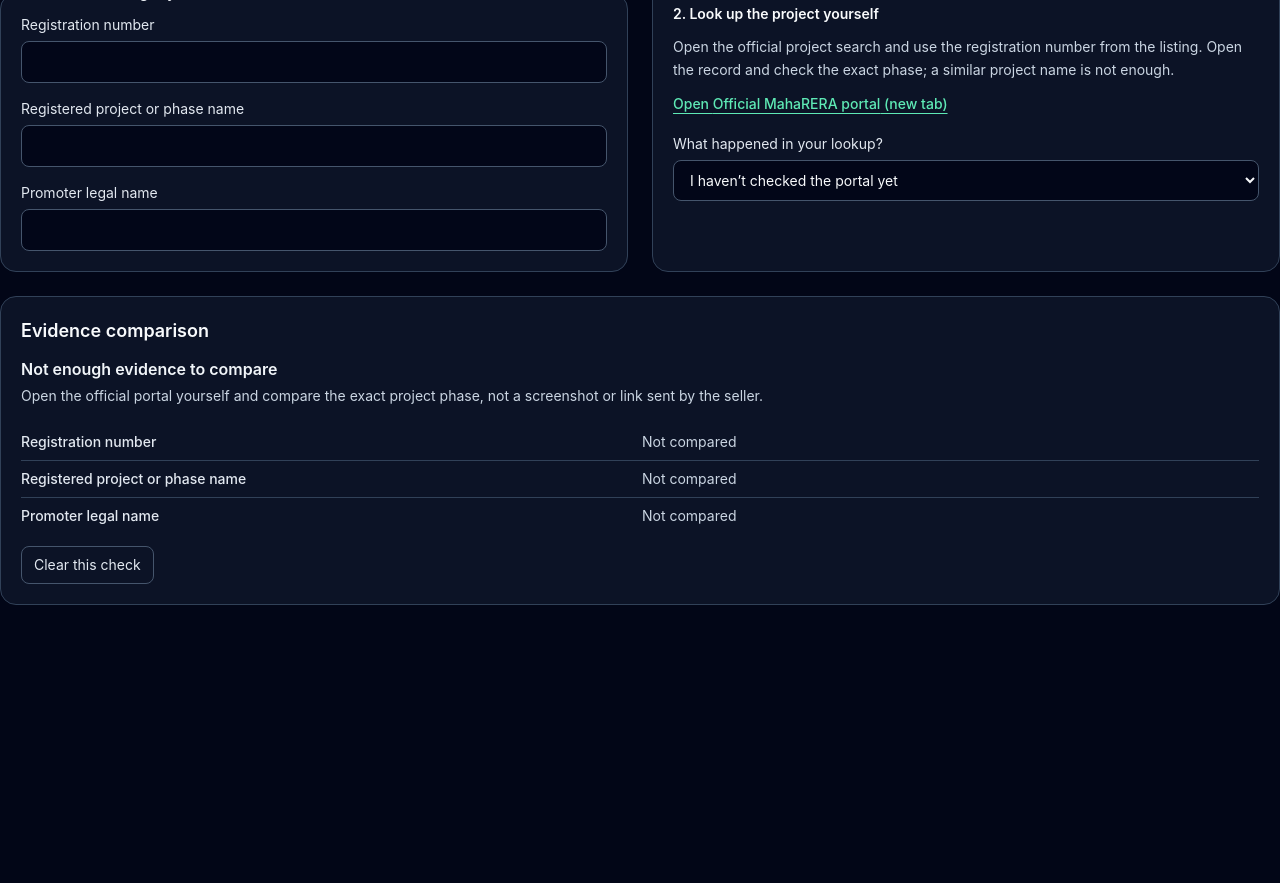
it: remote buyer workflow › can clear both sets of entries and reset the lookup
In the field labelled "Registration number": x=314, y=62 [21,41,607,83], type "DEMO-001"
In the field labelled "Registered project or phase name": x=314, y=146 [21,125,607,167], type "Synthetic phase 1"
In the field labelled "Promoter legal name": x=314, y=230 [21,209,607,251], type "Example Promoter"
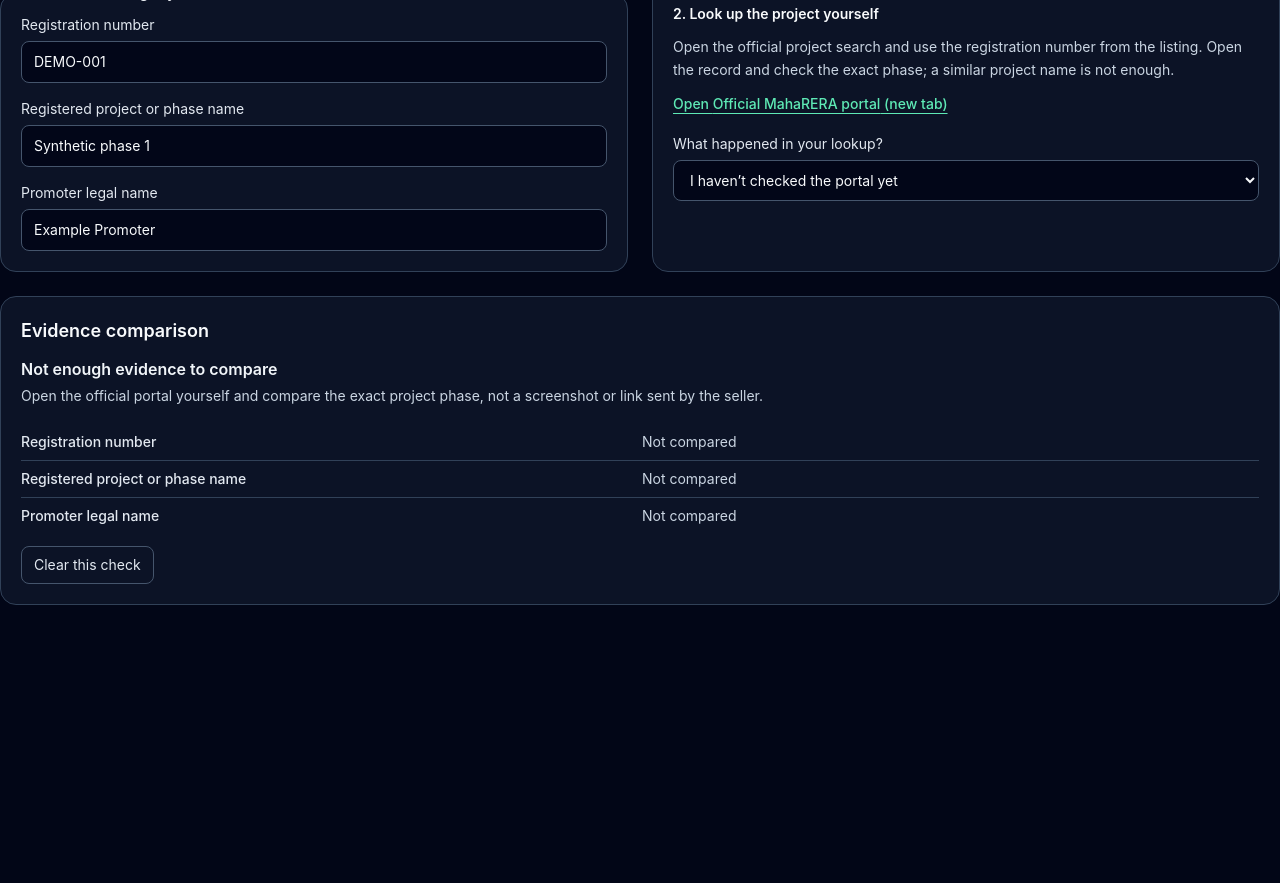
Select "I opened a record on the official portal" in the dropdown labelled "What happened in your lookup?": x=966, y=180 [673,160,1259,200]
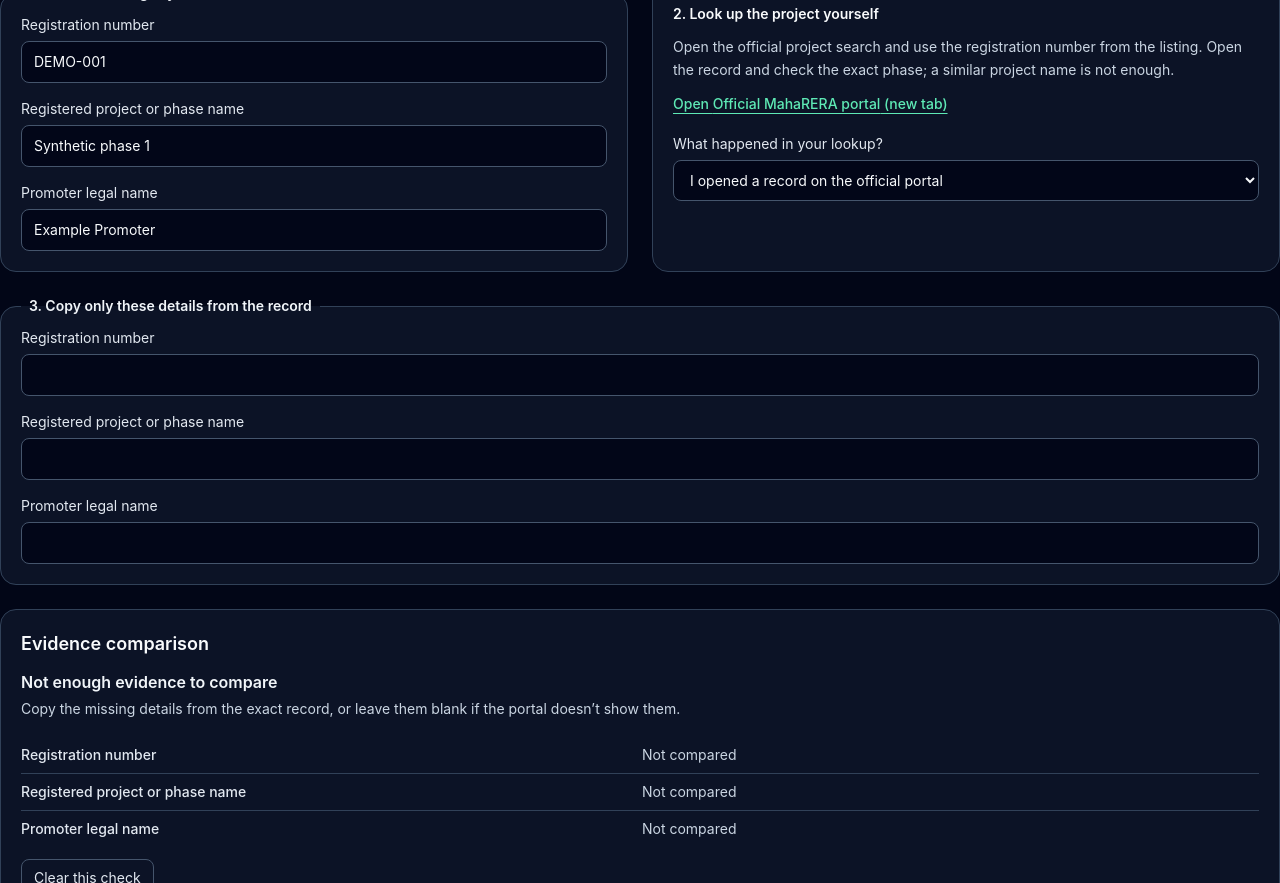
In the 2nd field labelled "Registration number": x=640, y=375 [21,354,1259,396], type "DEMO-001"
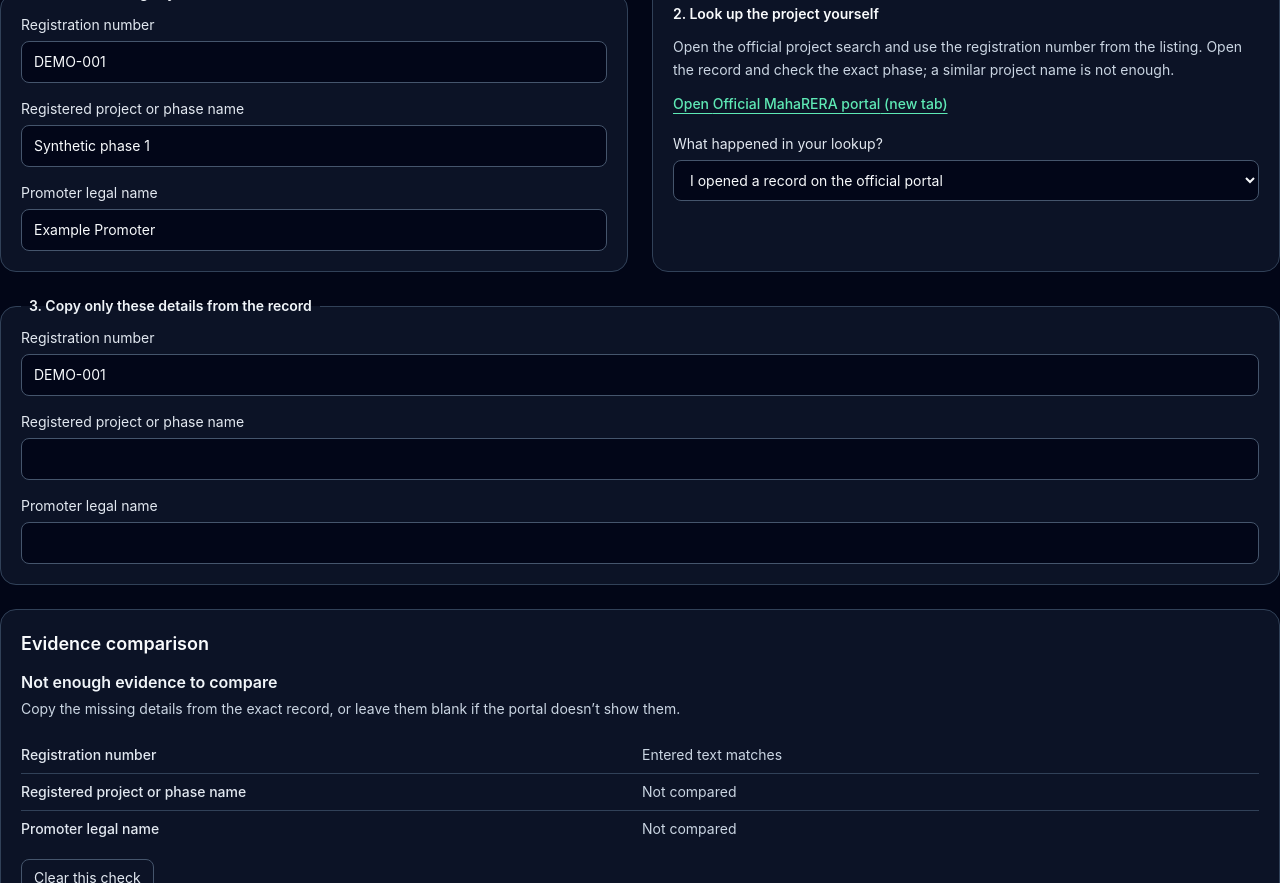
In the 2nd field labelled "Registered project or phase name": x=640, y=459 [21,438,1259,480], type "Synthetic phase 1"
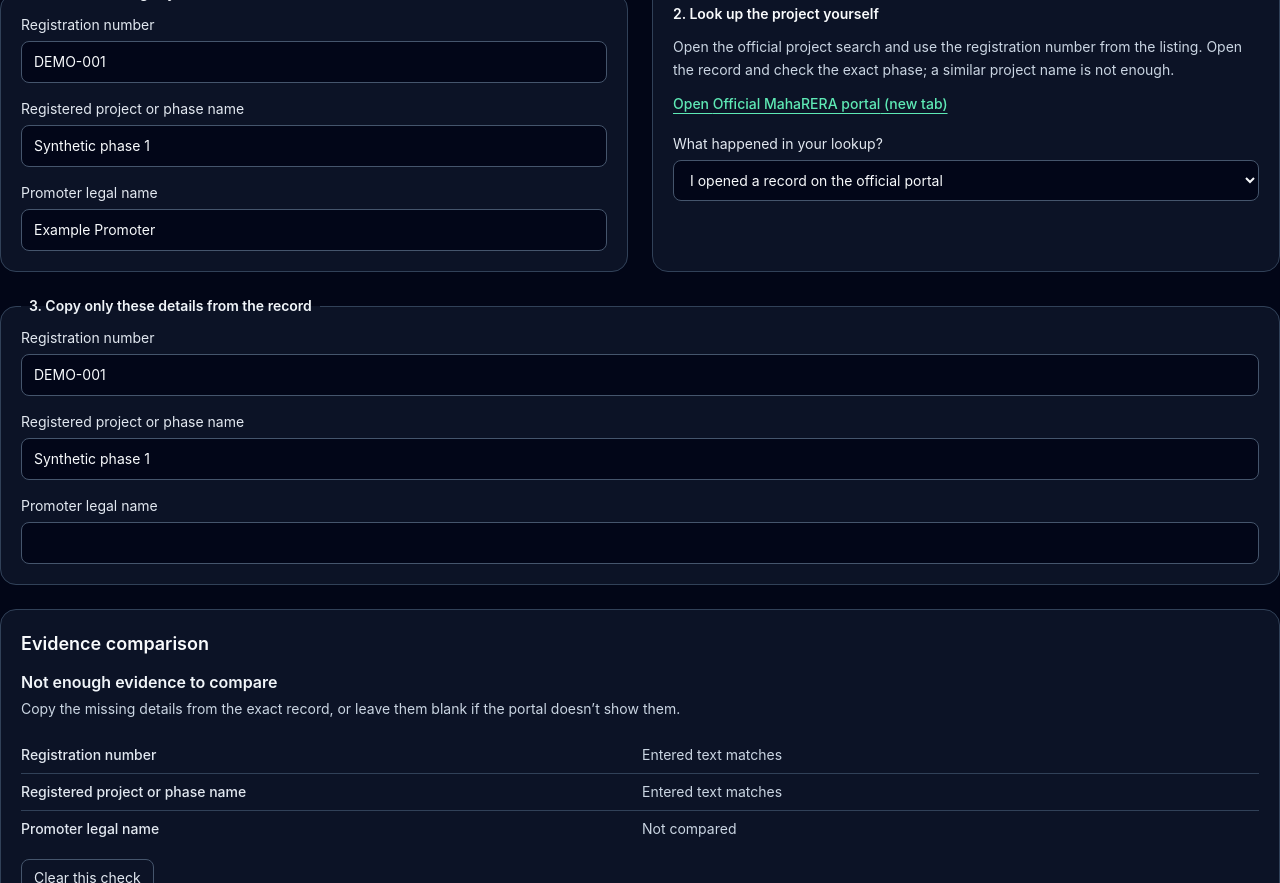
In the 2nd field labelled "Promoter legal name": x=640, y=543 [21,522,1259,564], type "Example Promoter"
(page scrolled)
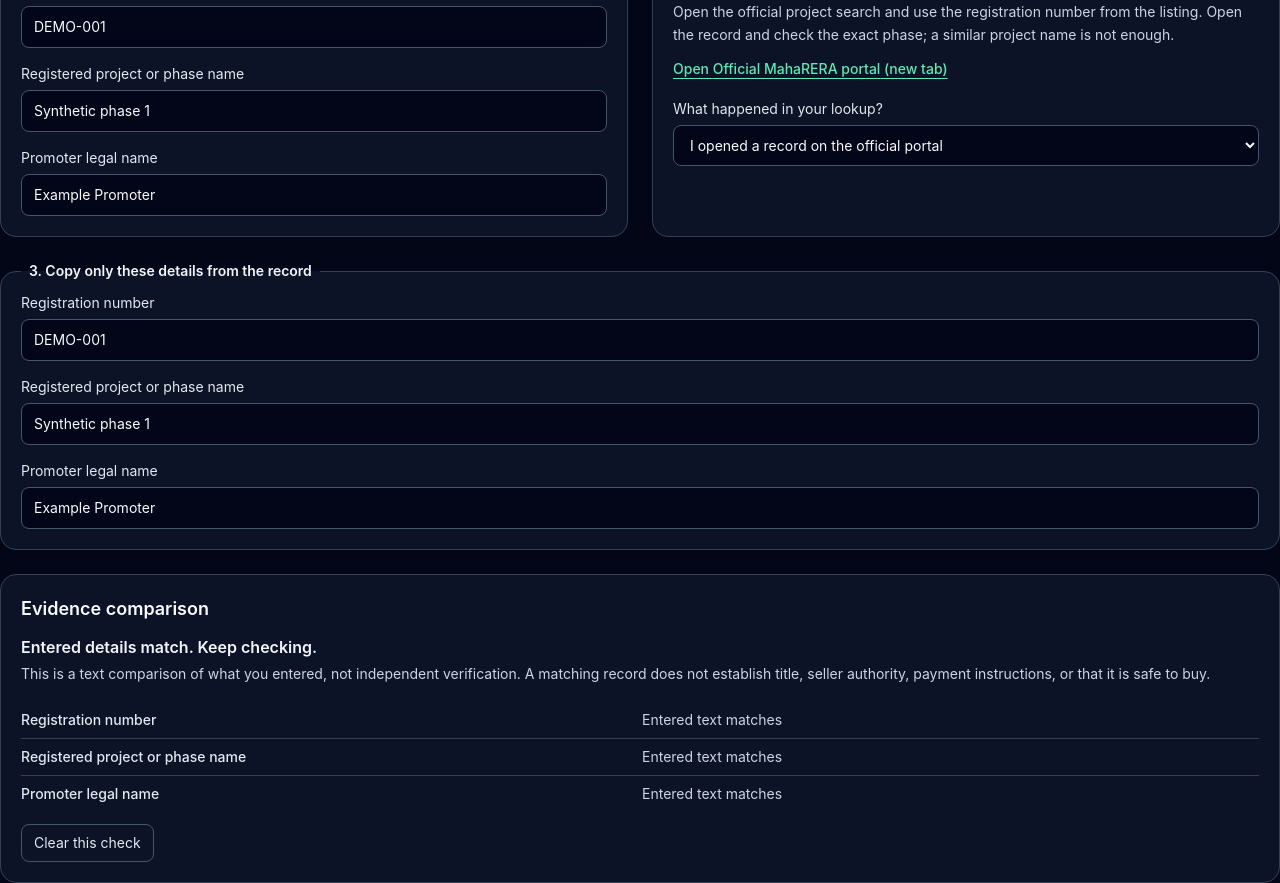
Click the button "Clear this check": x=87, y=843 [21,824,154,862]
(page scrolled)
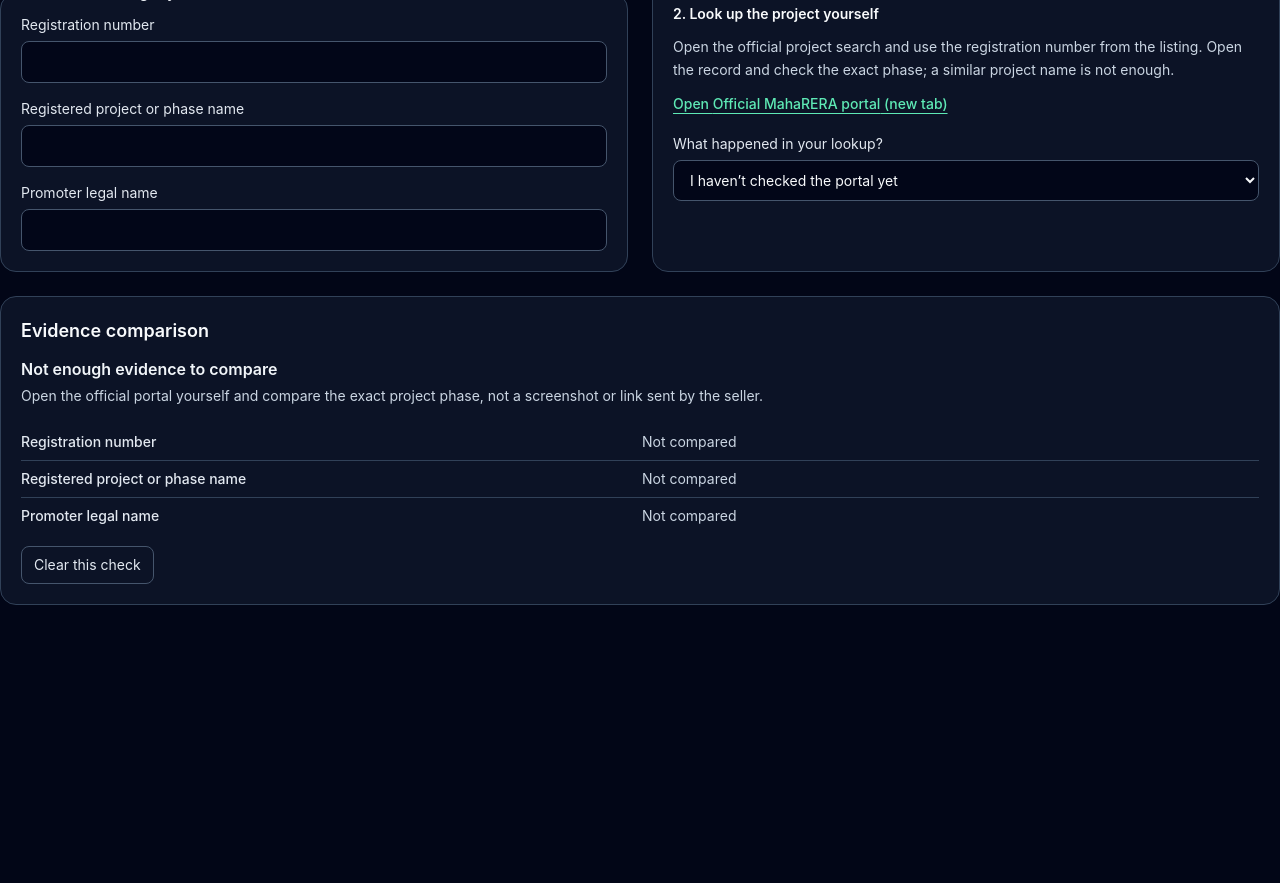
Check: the field labelled "Registration number" is empty, box [21,41,607,83]
Check: the text "Copy only" is gone
Check: the message shows "Not enough evidence", box [21,359,278,379]
